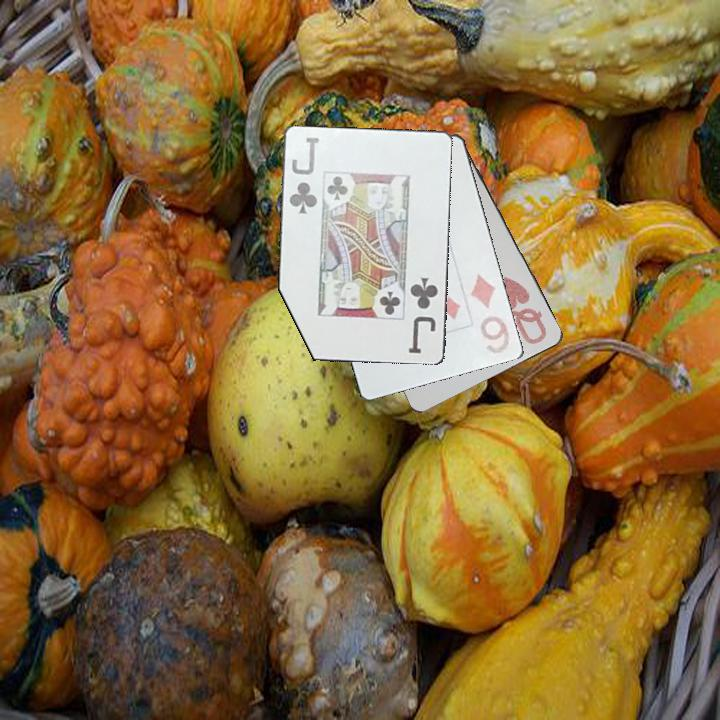6d: (467, 270, 513, 358)
Jc: (405, 274, 441, 357), (286, 134, 322, 217)
Qh: (496, 273, 550, 348)
